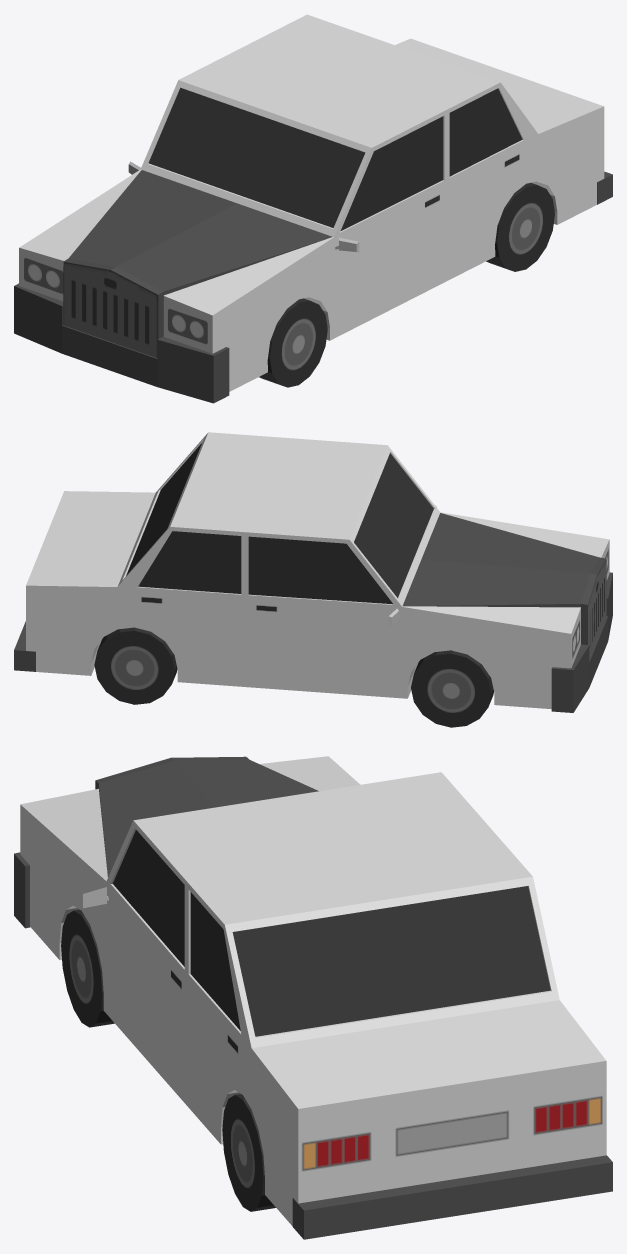
File: Car3_1.glb
The picture shows the model from 3 angles, top to bottom: view 1: azimuth 30°, elevation 25°; view 2: azimuth 150°, elevation 25°; view 3: azimuth 270°, elevation 25°; orthographic projection. The views are drawn at different scales.
Parts seen in each view (by area): view 1: Vehicle_Car_color01.002; view 2: Vehicle_Car_color01.002; view 3: Vehicle_Car_color01.002.
Part boxes in pixels (x1,y1,x2,y2): Vehicle_Car_color01.002: [14, 14, 612, 403]; Vehicle_Car_color01.002: [14, 432, 612, 727]; Vehicle_Car_color01.002: [14, 756, 612, 1239].
Bounding box in the file's own units: 1.69 × 0.5488 × 1.14.
Materials: 1 (1 with a texture image).
